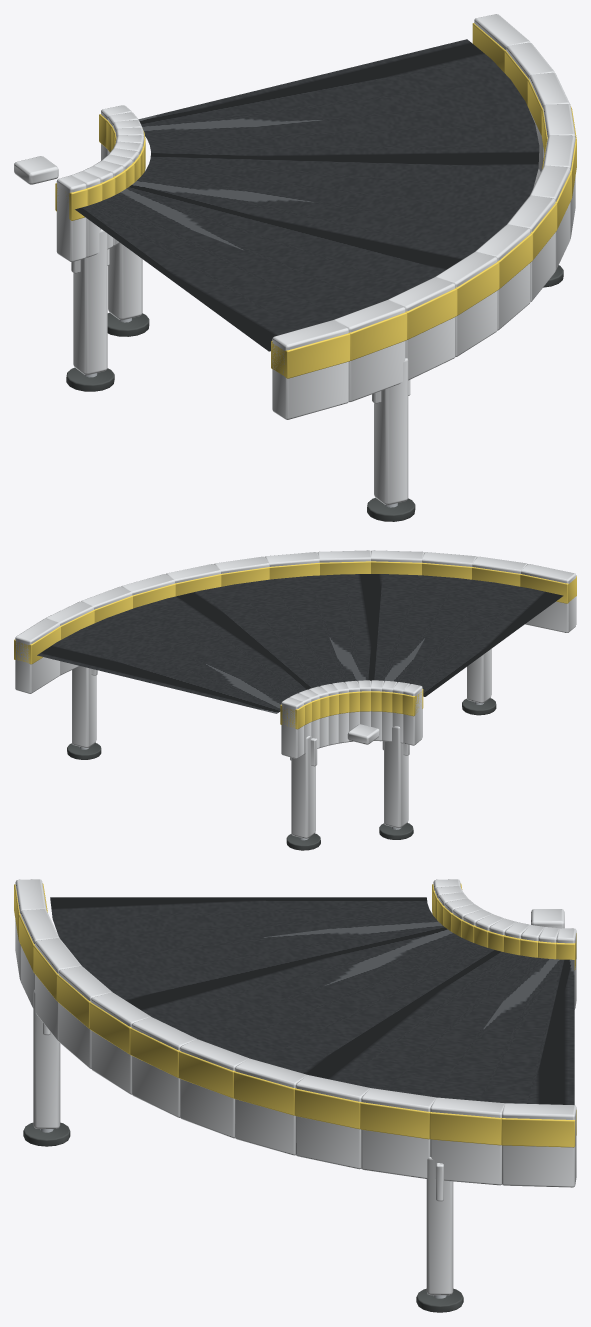
Rendered from cinta_curva_mk1.glb.
The picture shows the model from 3 angles, top to bottom: view 1: azimuth 30°, elevation 25°; view 2: azimuth 150°, elevation 25°; view 3: azimuth 270°, elevation 25°; orthographic projection. The views are drawn at different scales.
Parts seen in each view (by area): view 1: banda, bastidor_ext0, pata_int0, pata_ext0, bastidor_ext1, bastidor_ext2, bastidor_ext3, bastidor_ext4, pata_int1, franja_ext0, bastidor_int0, bastidor_ext5 (+17 smaller); view 2: banda, pata_int0, bastidor_ext11, pata_int1, pata_ext1, bastidor_ext0, bastidor_int11, pata_ext0, bastidor_int0, franja_ext0, franja_ext11, bastidor_ext10 (+29 smaller); view 3: banda, bastidor_ext11, bastidor_ext9, bastidor_ext10, bastidor_ext8, bastidor_ext7, bastidor_ext6, pata_ext1, bastidor_ext5, pata_ext0, bastidor_ext4, bastidor_ext3 (+16 smaller).
Part boxes in pixels (x1=…): banda: x1=75, y1=39, x2=539, y2=351; bastidor_ext0: x1=272, y1=320, x2=348, y2=419; pata_int0: x1=73, y1=229, x2=107, y2=374; pata_ext0: x1=374, y1=358, x2=408, y2=505; bastidor_ext1: x1=334, y1=300, x2=405, y2=402; bastidor_ext2: x1=388, y1=277, x2=455, y2=380; bastidor_ext3: x1=435, y1=251, x2=497, y2=357; bastidor_ext4: x1=475, y1=224, x2=530, y2=330; pata_int1: x1=108, y1=243, x2=142, y2=320; franja_ext0: x1=271, y1=333, x2=350, y2=378; bastidor_int0: x1=56, y1=175, x2=86, y2=261; bastidor_ext5: x1=507, y1=195, x2=555, y2=301; banda: x1=37, y1=574, x2=563, y2=713; pata_int0: x1=384, y1=726, x2=408, y2=828; bastidor_ext11: x1=15, y1=618, x2=59, y2=693; pata_int1: x1=291, y1=736, x2=315, y2=838; pata_ext1: x1=72, y1=666, x2=96, y2=747; bastidor_ext0: x1=521, y1=564, x2=576, y2=632; bastidor_int11: x1=281, y1=697, x2=303, y2=758; pata_ext0: x1=467, y1=649, x2=491, y2=703; bastidor_int0: x1=403, y1=684, x2=422, y2=745; franja_ext0: x1=520, y1=574, x2=576, y2=603; franja_ext11: x1=14, y1=626, x2=60, y2=664; bastidor_ext10: x1=45, y1=601, x2=93, y2=675; banda: x1=50, y1=897, x2=574, y2=1104; bastidor_ext11: x1=502, y1=1103, x2=576, y2=1187; bastidor_ext9: x1=361, y1=1088, x2=436, y2=1178; bastidor_ext10: x1=430, y1=1097, x2=504, y2=1185; bastidor_ext8: x1=295, y1=1075, x2=369, y2=1169; bastidor_ext7: x1=235, y1=1058, x2=307, y2=1155; bastidor_ext6: x1=180, y1=1039, x2=249, y2=1138; pata_ext1: x1=426, y1=1157, x2=453, y2=1295; bastidor_ext5: x1=131, y1=1017, x2=196, y2=1117; pata_ext0: x1=33, y1=989, x2=60, y2=1128; bastidor_ext4: x1=91, y1=992, x2=150, y2=1094; bastidor_ext3: x1=58, y1=966, x2=112, y2=1068.
Size of the model in its own units: 0.837 by 0.33 by 0.837.
5 materials, 1 textured.
